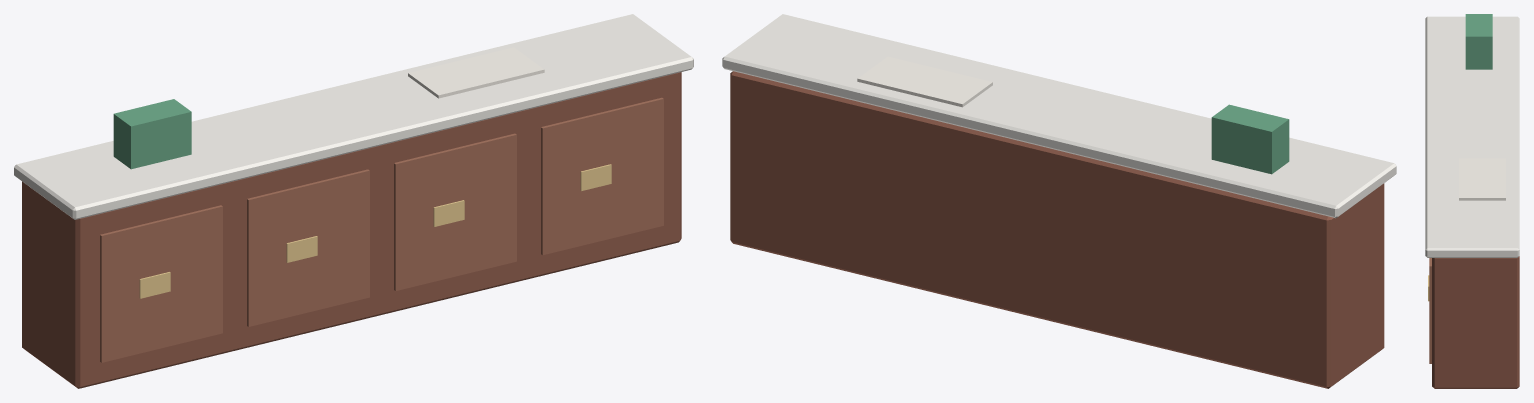
The model's file is hall-desk.glb.
The picture shows the model from 3 angles, left to right: view 1: azimuth 30°, elevation 25°; view 2: azimuth 150°, elevation 25°; view 3: azimuth 270°, elevation 25°; orthographic projection. The views are drawn at different scales.
Visible parts, largest first — view 1: hall-desk; view 2: hall-desk; view 3: hall-desk.
Part boxes in pixels (<box>): hall-desk: <box>14,14,693,388</box>; hall-desk: <box>722,14,1396,388</box>; hall-desk: <box>1425,14,1519,388</box>.
Bounding box in the file's own units: 4.1 × 1.45 × 0.7.
